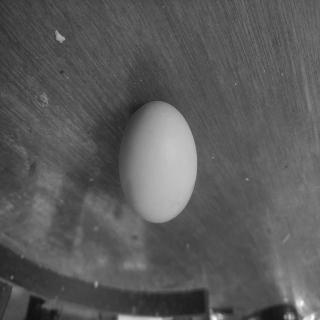Telur: (114, 96, 205, 226)
